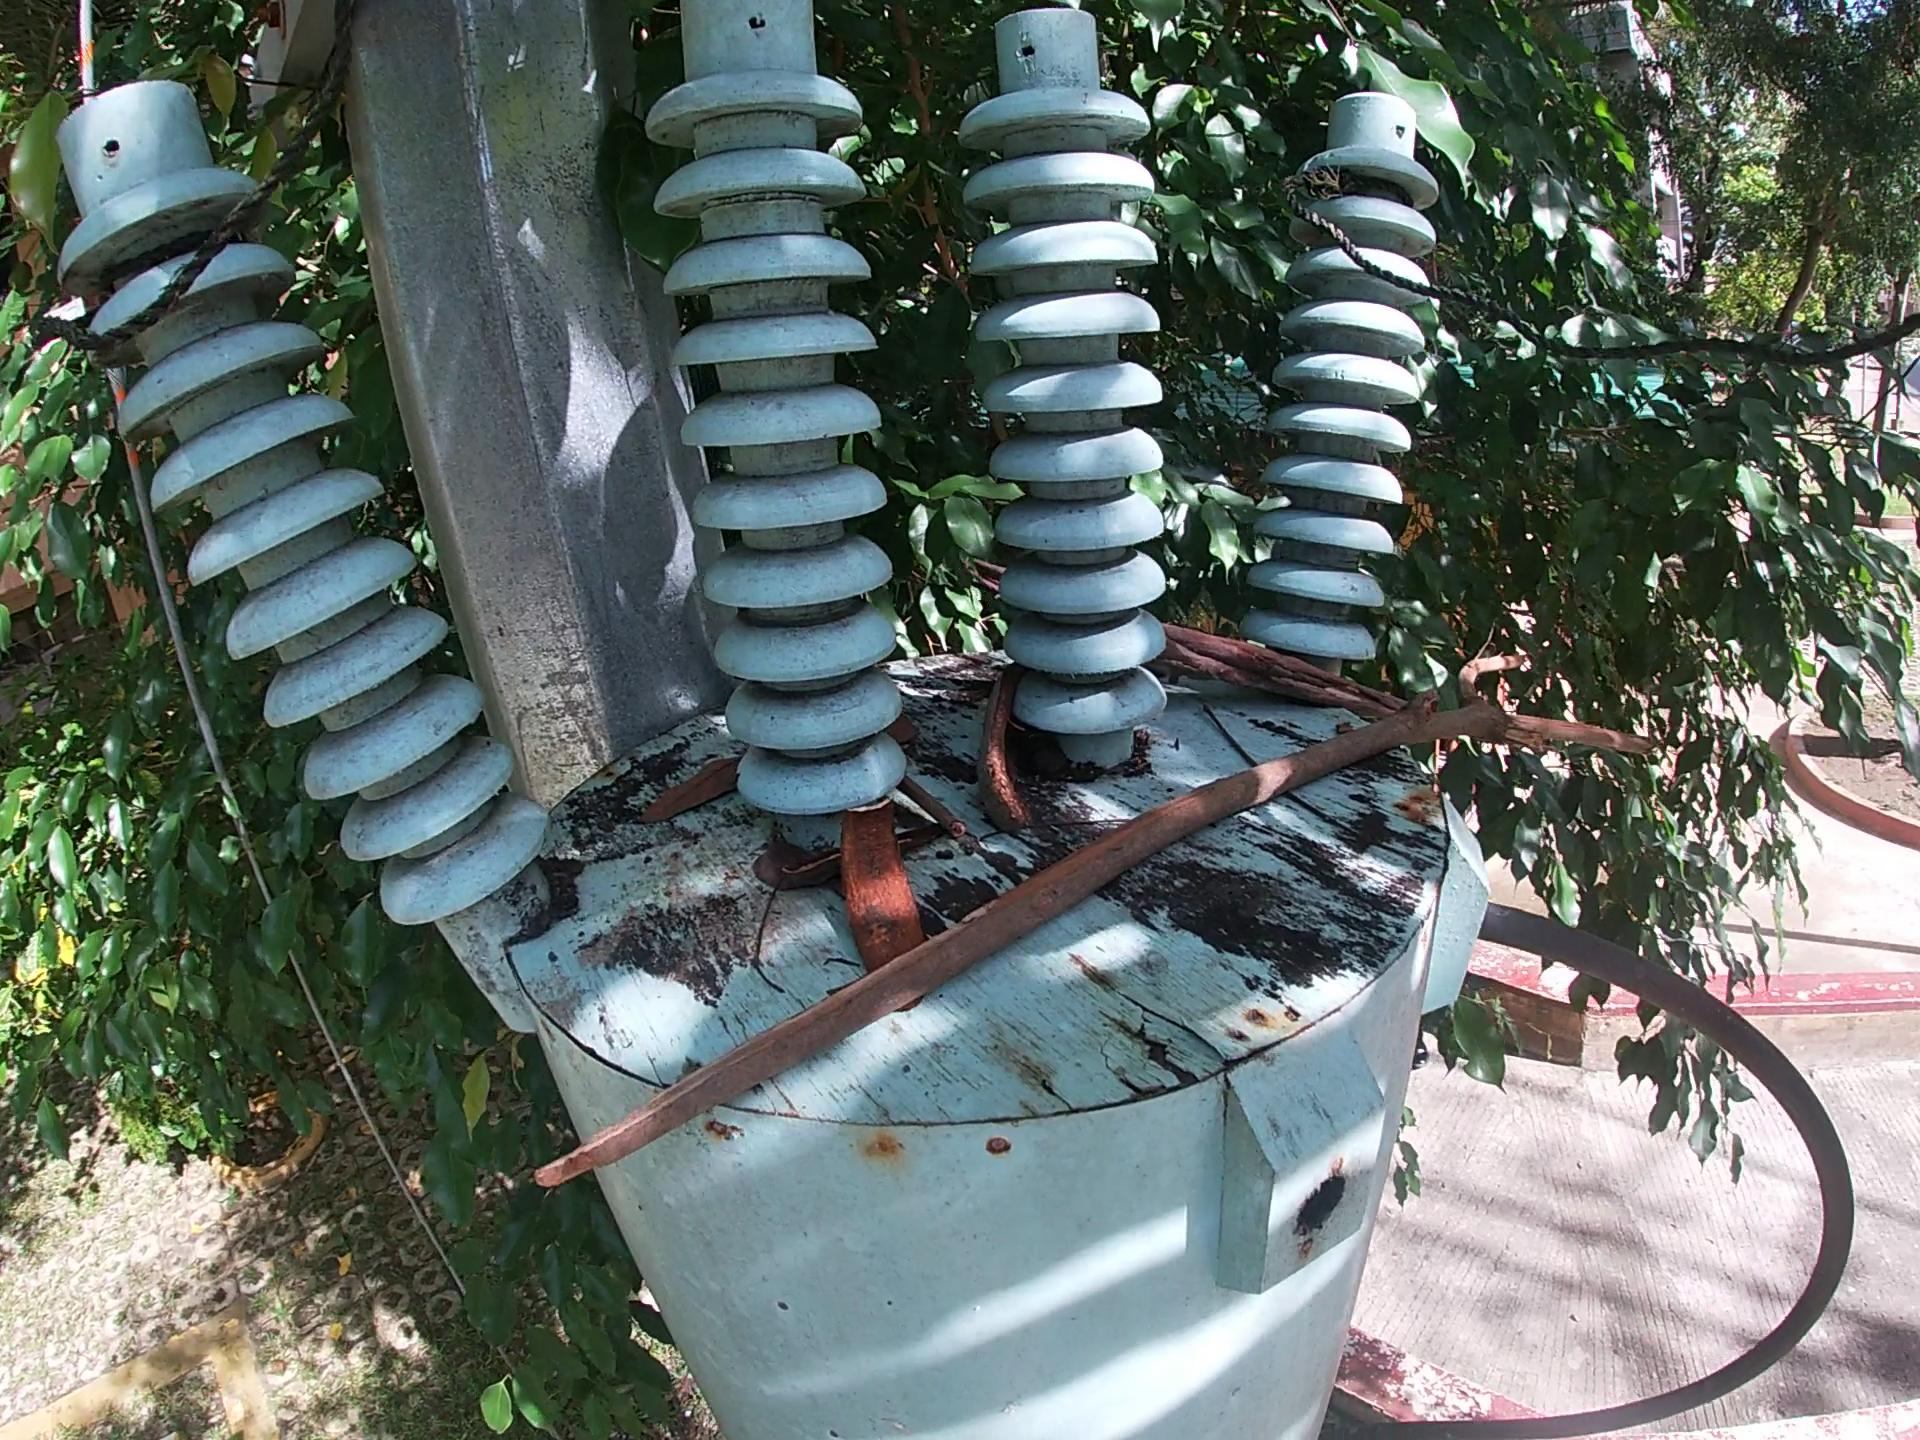leaf: (632, 752, 745, 838), (881, 711, 927, 755)
mahogany fruit: (838, 790, 933, 973), (971, 656, 1043, 836)
tree branch: (522, 643, 1671, 1201), (1158, 617, 1448, 731), (903, 781, 975, 846)
